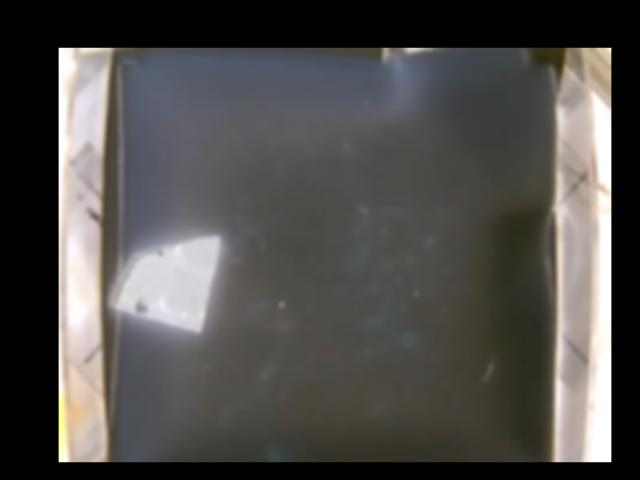China: (111, 227, 218, 332)
